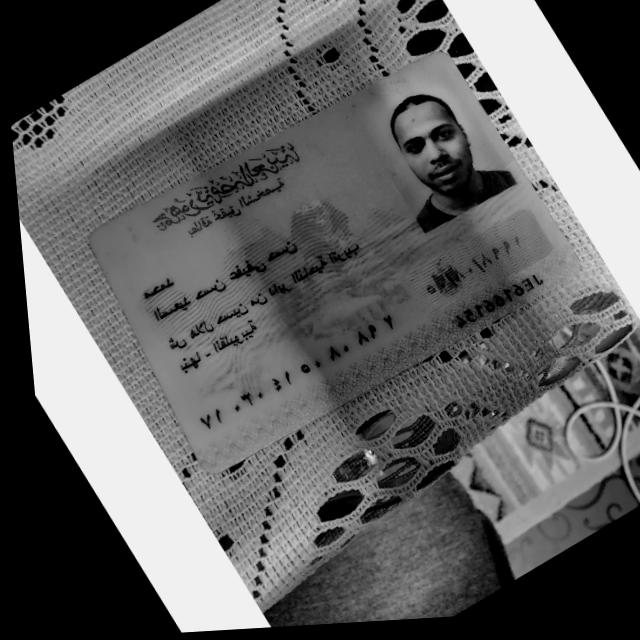front: (51, 29, 583, 480)
